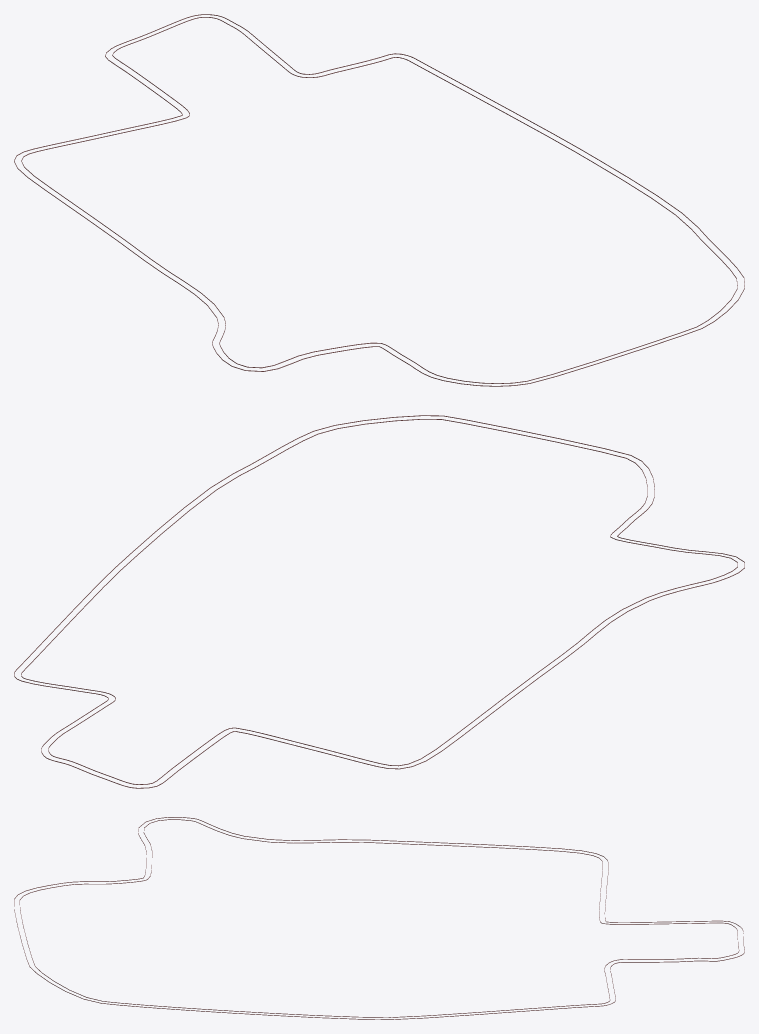
The model's file is lvl_race_track.glb.
3 renders of one model, top to bottom at view 1: azimuth 30°, elevation 25°; view 2: azimuth 150°, elevation 25°; view 3: azimuth 270°, elevation 25°, orthographic. The views are drawn at different scales.
Visible parts, largest first — view 1: race_Track1.003-col, race_Track1.002-col, race_Track1.008-col, race_Track1.006-col; view 2: race_Track1.006-col, race_Track1.002-col, race_Track1.008-col, race_Track1.003-col, race_Track1.011-col; view 3: race_Track1.006-col, race_Track1.003-col, race_Track1.002-col, race_Track1.012-col, race_Track1.008-col, race_Track1.011-col.
Boxes of the visible parts, box(x1,y1,x2,y2) form: race_Track1.003-col: box(162, 14, 511, 113); race_Track1.002-col: box(14, 27, 189, 189); race_Track1.008-col: box(329, 333, 682, 386); race_Track1.006-col: box(506, 111, 744, 335); race_Track1.006-col: box(72, 415, 465, 612); race_Track1.002-col: box(83, 727, 460, 788); race_Track1.008-col: box(463, 419, 658, 547); race_Track1.003-col: box(14, 611, 115, 770); race_Track1.011-col: box(605, 545, 744, 621); race_Track1.006-col: box(26, 959, 477, 1019); race_Track1.003-col: box(477, 942, 744, 1014); race_Track1.002-col: box(532, 846, 743, 941); race_Track1.012-col: box(293, 839, 531, 849); race_Track1.008-col: box(14, 858, 151, 958); race_Track1.011-col: box(138, 817, 293, 857).
Bounding box in the file's own units: 82.76 × 2.98 × 133.
